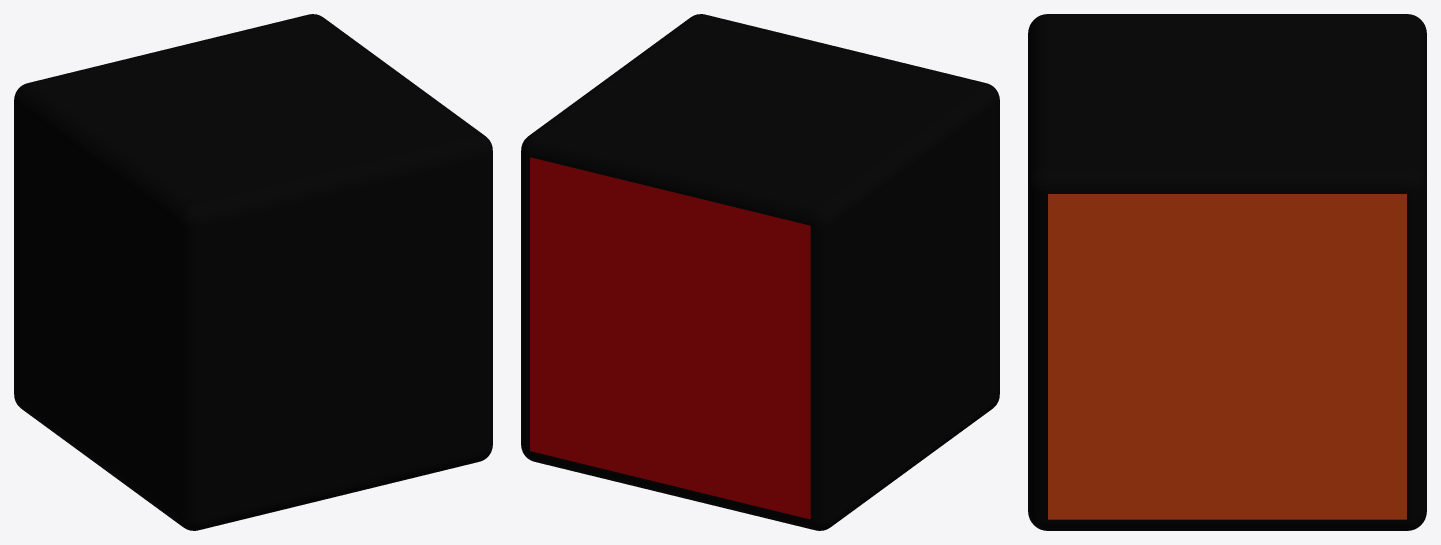
File: beta3.obj
3 views of the same model, side by side, from view 1: azimuth 30°, elevation 25°; view 2: azimuth 150°, elevation 25°; view 3: azimuth 270°, elevation 25° (orthographic). The views are drawn at different scales.
Visible parts, largest first — view 1: Cube.006; view 2: Cube.006; view 3: Cube.006.
Part boxes in pixels (x1,y1,x2,y2): Cube.006: [14, 14, 492, 530]; Cube.006: [521, 14, 999, 530]; Cube.006: [1028, 14, 1426, 530].
Bounding box in the file's own units: 4.28 × 4.28 × 4.28.
